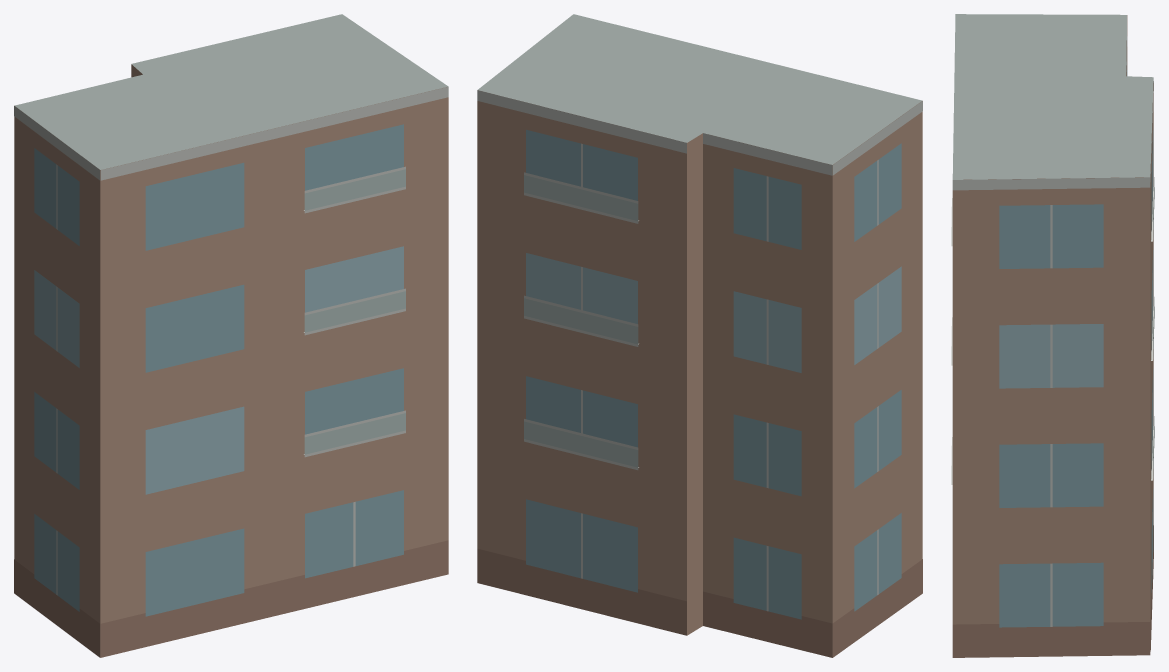
The model's file is survey-upis-32461985.glb.
3 views of the same model, side by side, from view 1: azimuth 30°, elevation 25°; view 2: azimuth 150°, elevation 25°; view 3: azimuth 270°, elevation 25° (orthographic). The views are drawn at different scales.
Visible parts, largest first — view 1: survey-upis-32461985.tmp; view 2: survey-upis-32461985.tmp; view 3: survey-upis-32461985.tmp.
Boxes of the visible parts, x1=… form: survey-upis-32461985.tmp: x1=14, y1=14, x2=448, y2=657; survey-upis-32461985.tmp: x1=477, y1=14, x2=922, y2=657; survey-upis-32461985.tmp: x1=951, y1=14, x2=1154, y2=657.
Bounding box in the file's own units: 8.31 × 11.15 × 4.31.
